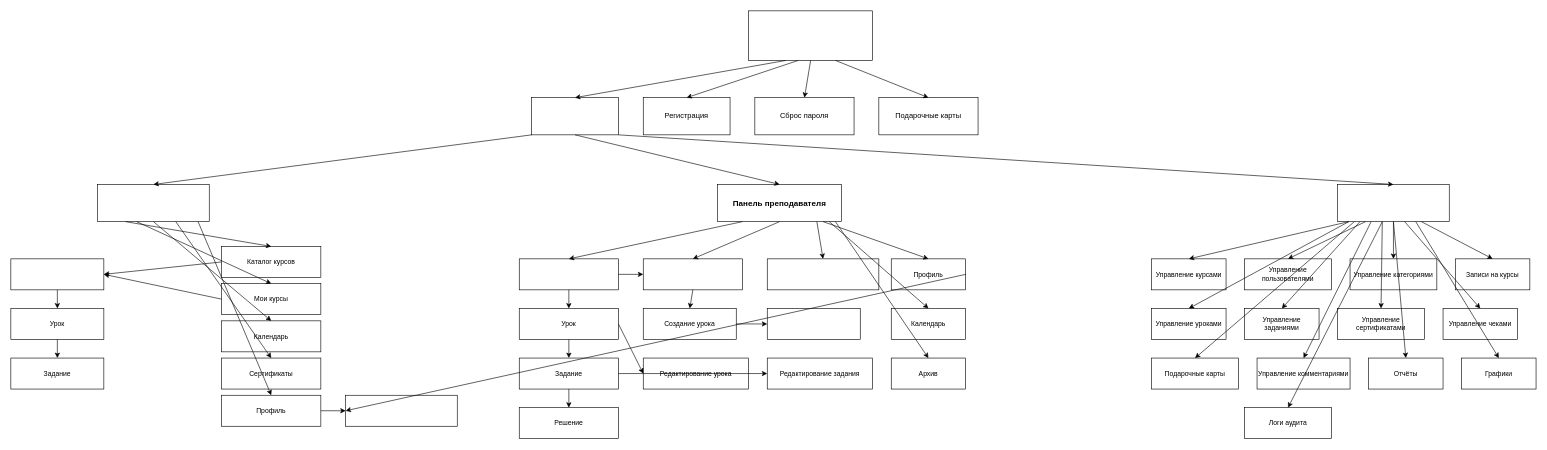
Image size: 1547x450. Some labels were removed from this diagram. Each missing label, with the box of its shape:
Админ-панель: (1337, 184, 1449, 222)
Вход: (531, 97, 618, 135)
Главный экран: (748, 10, 873, 60)
Курс преподавателя: (519, 258, 618, 290)
Курс студента: (10, 258, 104, 290)
Материалы курса: (767, 258, 879, 290)
Панель студента: (97, 184, 209, 222)
Редактирование курса: (643, 258, 742, 290)
Редактирование профиля: (345, 395, 457, 426)
Создание задания: (767, 308, 860, 339)
